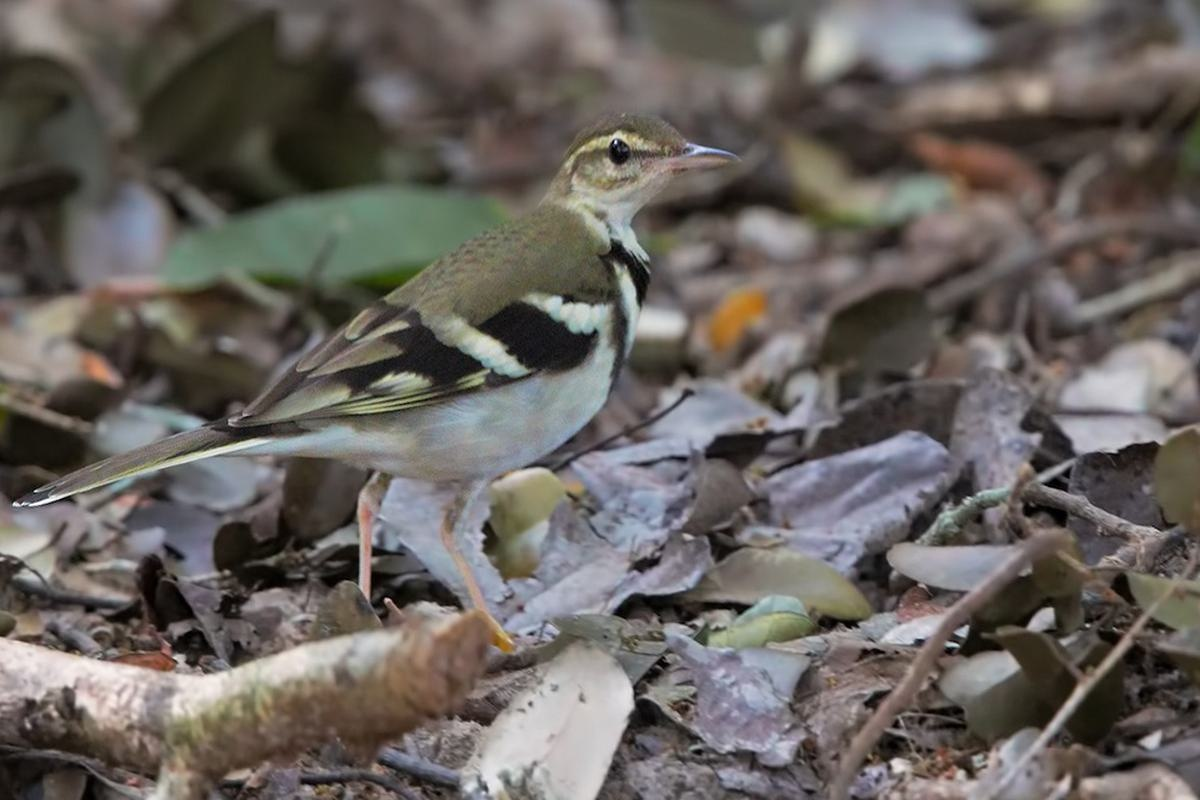wagtail: (154, 92, 763, 541)
